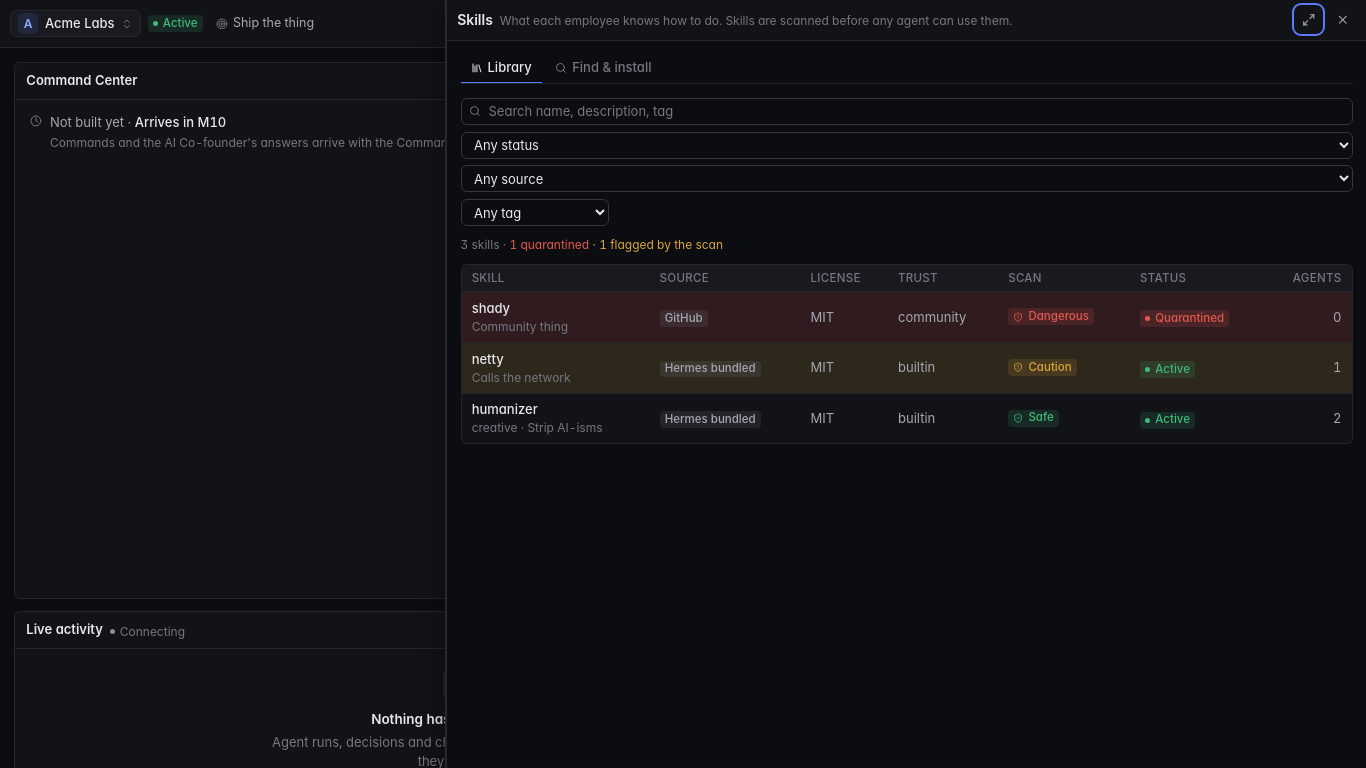
Test case: Skills panel: catalog install › shows the server's refusal reason when an install is refused
Click the tab "Find & install" at (603, 69), box left=545, top=54, right=662, bottom=84
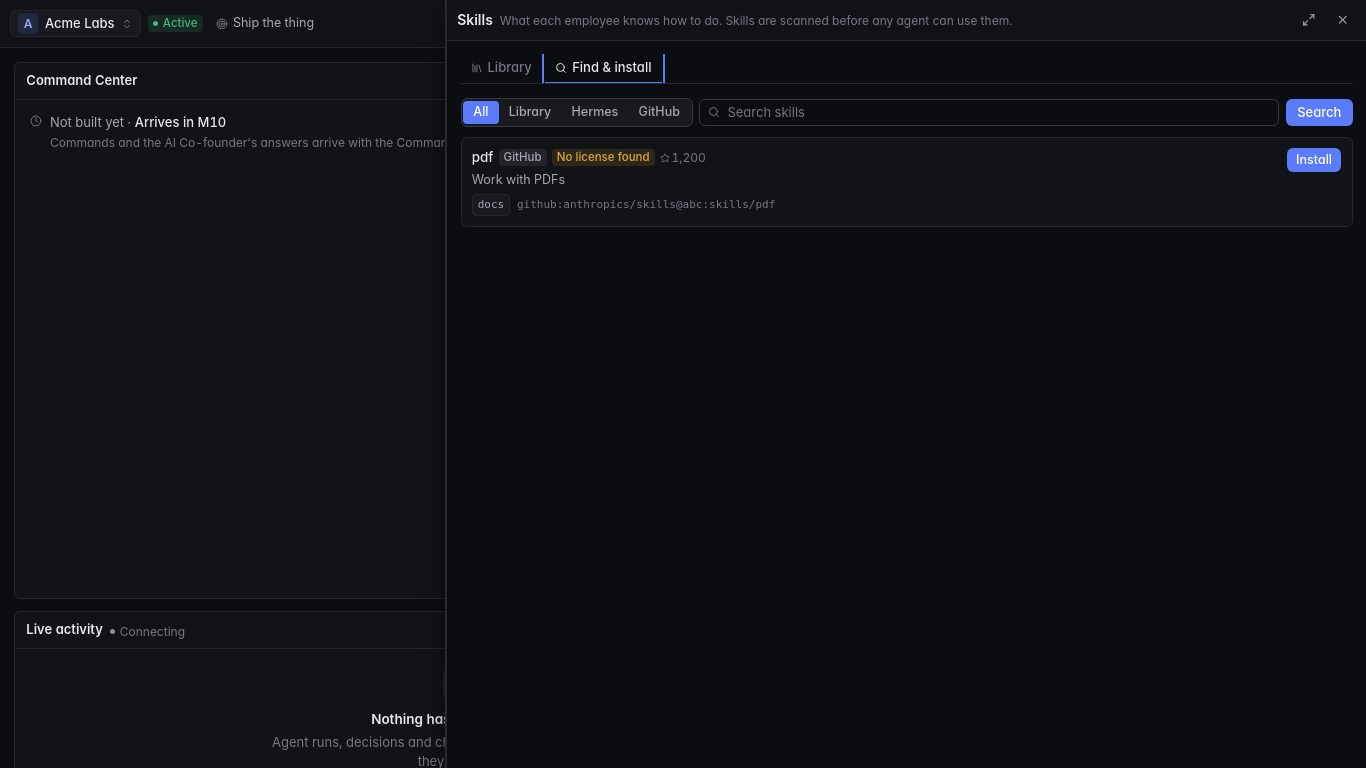
Expected: the text "No license found" is shown, left=552, top=150, right=655, bottom=166
Click the button "Install" at (1314, 160), box left=1287, top=148, right=1341, bottom=172
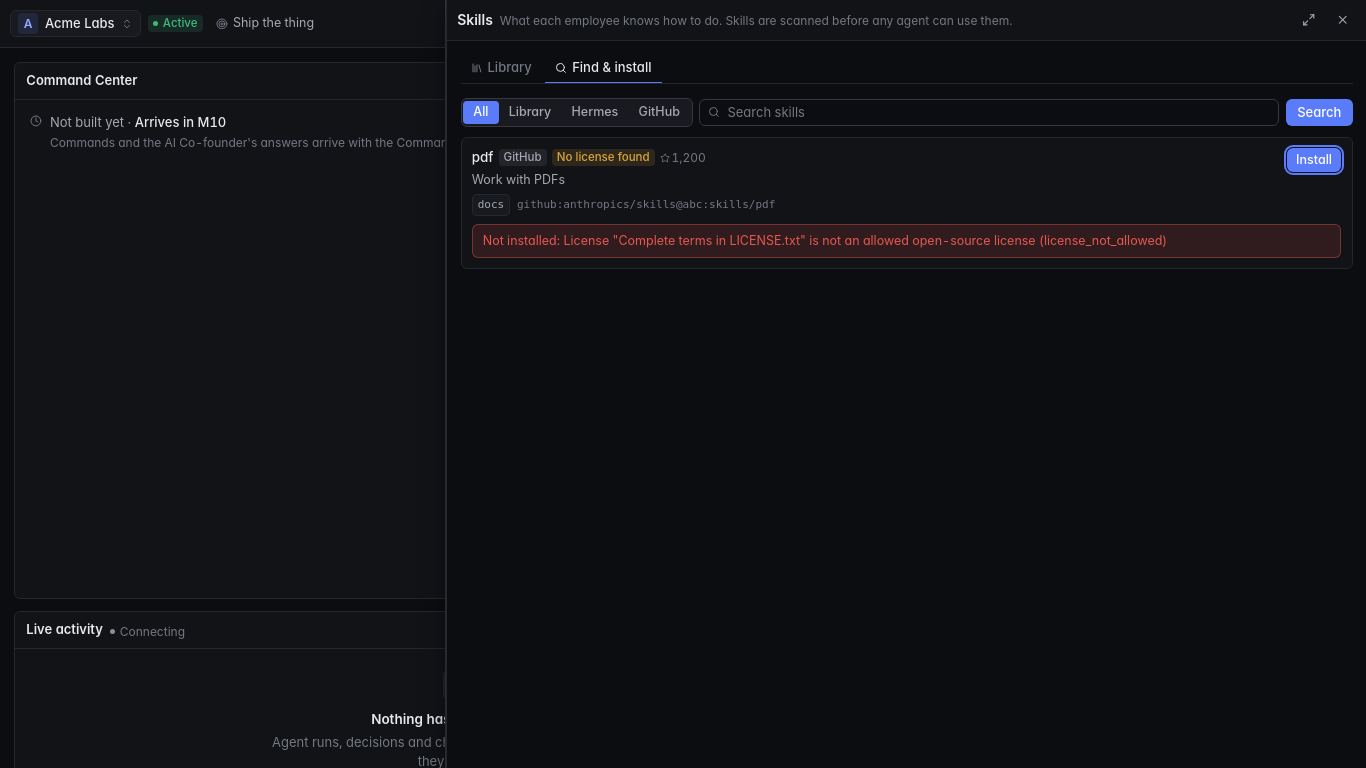
Expected: the message shows "Not installed", left=483, top=233, right=564, bottom=248
Expected: the message shows "not an allowed open-source license", left=564, top=233, right=1167, bottom=248
Expected: the message shows "license_not_allowed", left=564, top=233, right=1167, bottom=248
